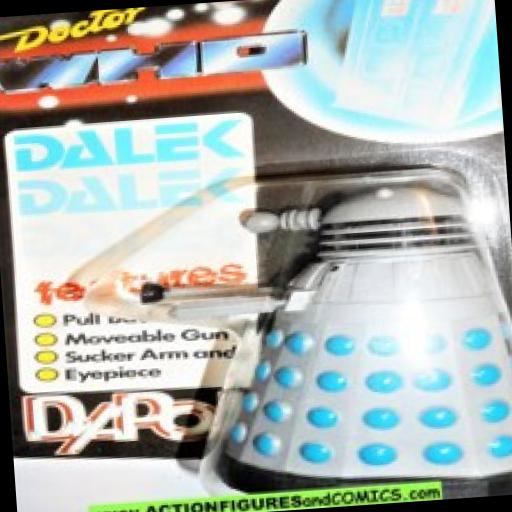dalek: (136, 173, 512, 512)
